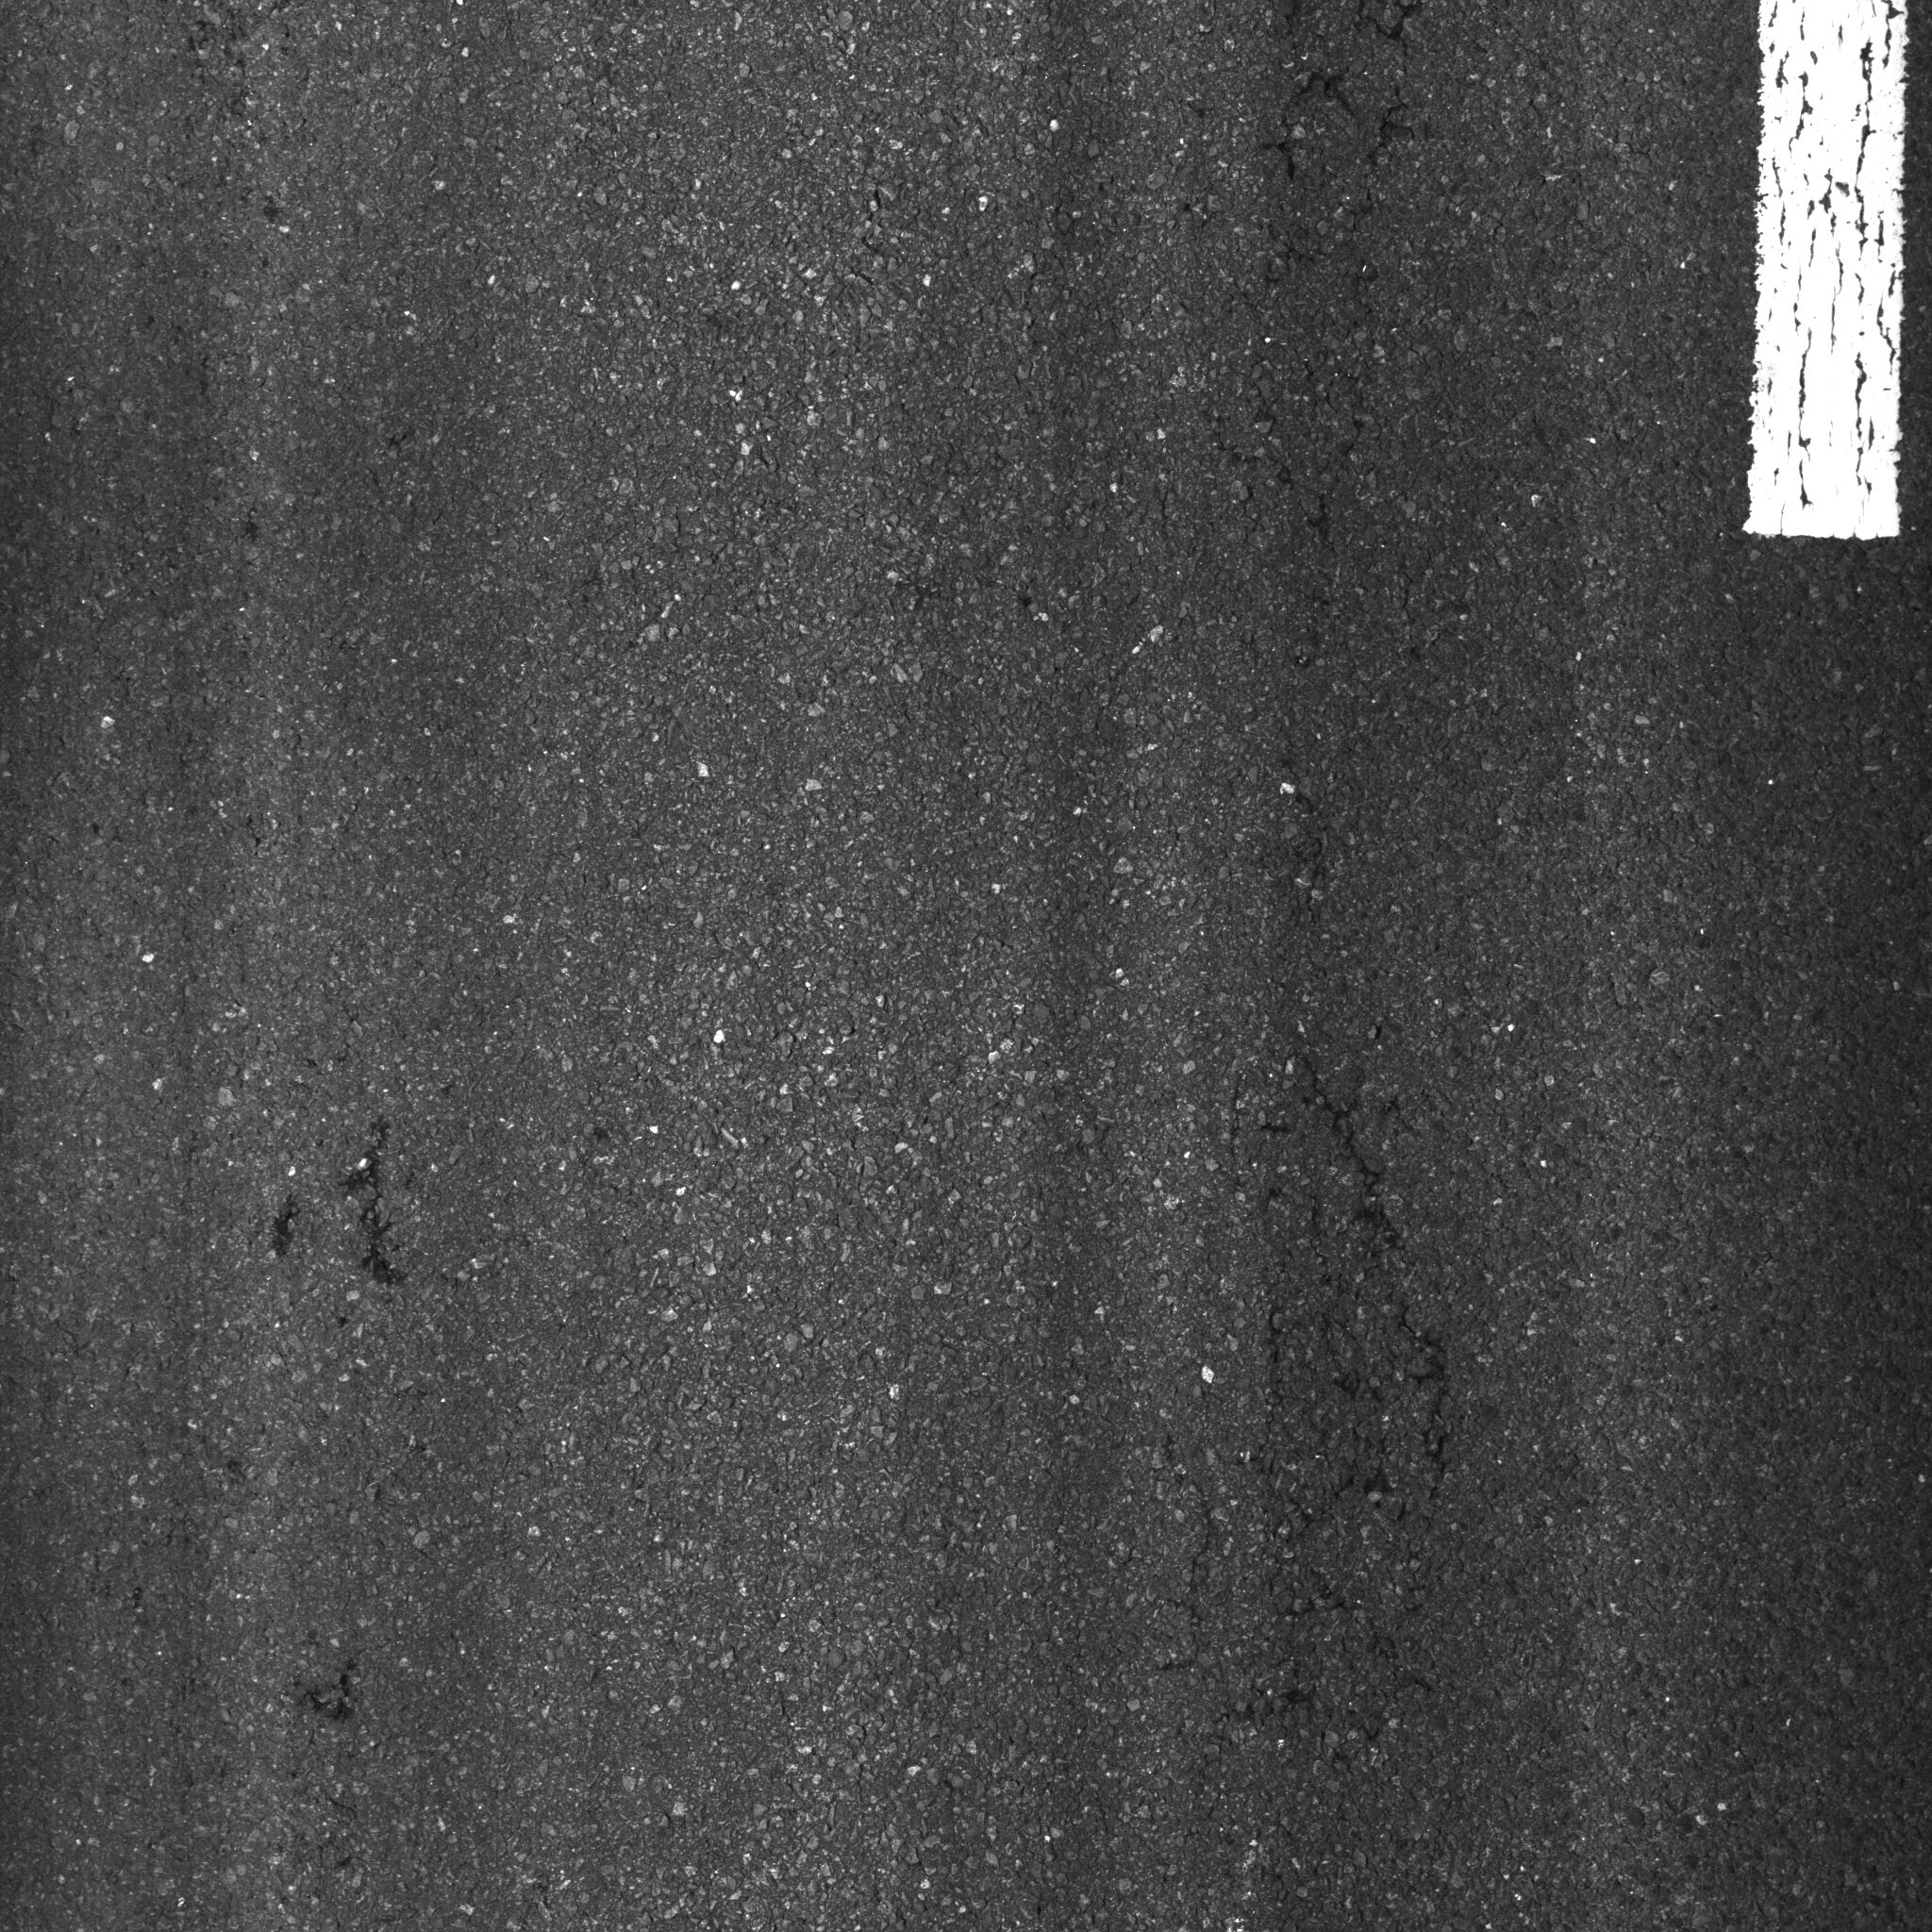alligator: (1086, 2, 1635, 1930)
